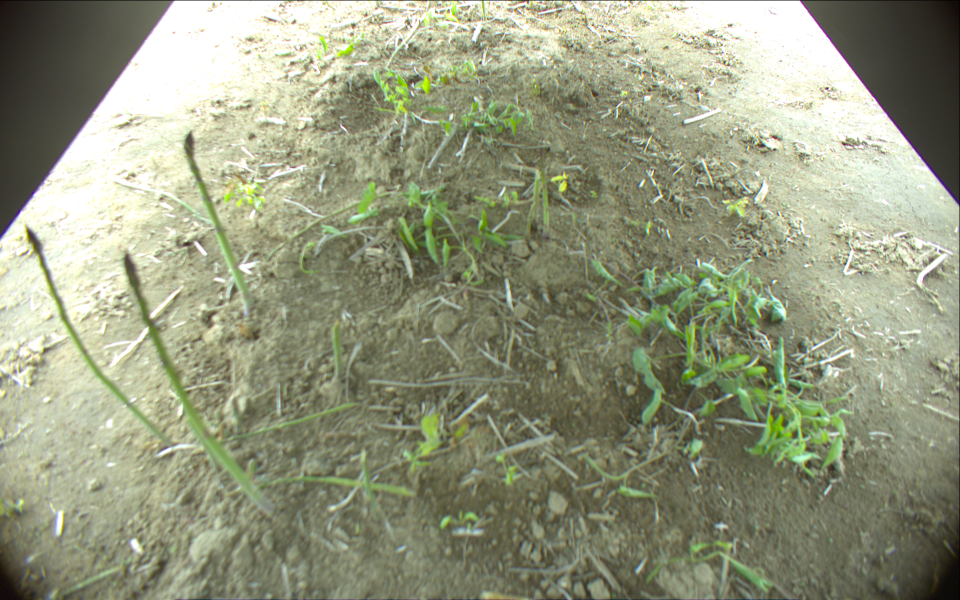aspa: (123, 251, 273, 520), (25, 222, 172, 451), (181, 131, 254, 316), (189, 404, 357, 454), (229, 477, 418, 499), (523, 168, 539, 239), (333, 321, 342, 387), (541, 165, 548, 243), (479, 1, 488, 21)
